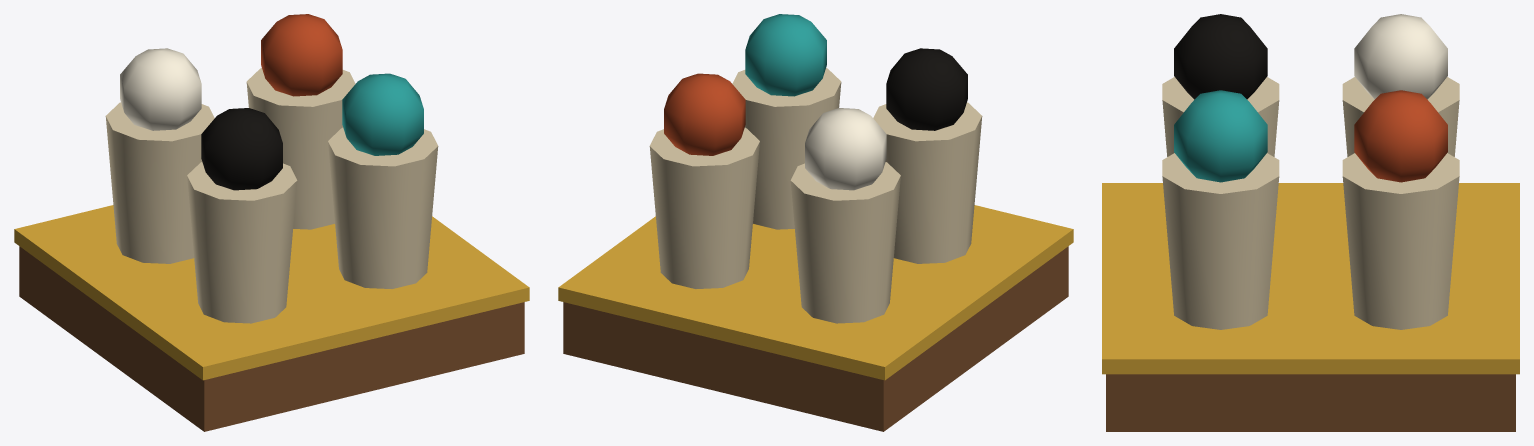
File: eg_canopic_jars.glb
3 views of the same model, side by side, from view 1: azimuth 30°, elevation 25°; view 2: azimuth 150°, elevation 25°; view 3: azimuth 270°, elevation 25° (orthographic). The views are drawn at different scales.
Visible parts, largest first — view 1: eg_canopic_jars; view 2: eg_canopic_jars; view 3: eg_canopic_jars.
Part boxes in pixels (bbox=[...]): eg_canopic_jars: bbox=[14, 14, 529, 431]; eg_canopic_jars: bbox=[558, 14, 1073, 431]; eg_canopic_jars: bbox=[1102, 14, 1519, 431].
Size of the model in its own units: 1.02 by 0.78 by 1.02.
